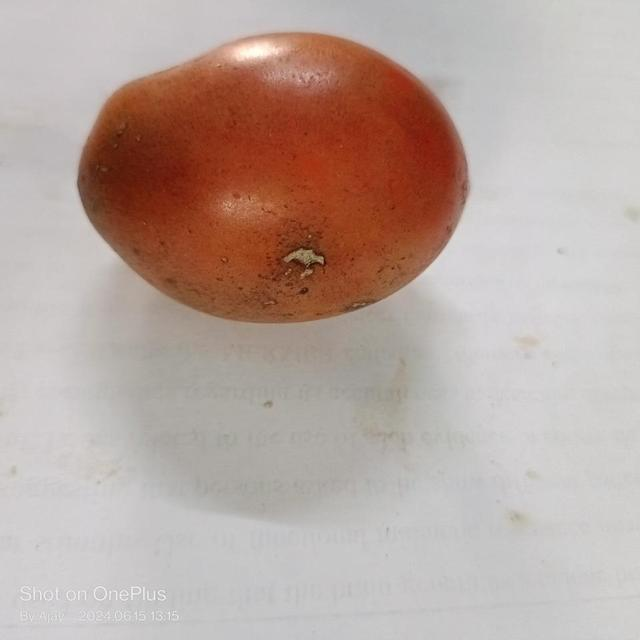Bacterial Spot Fruit: (186, 163, 219, 182)
